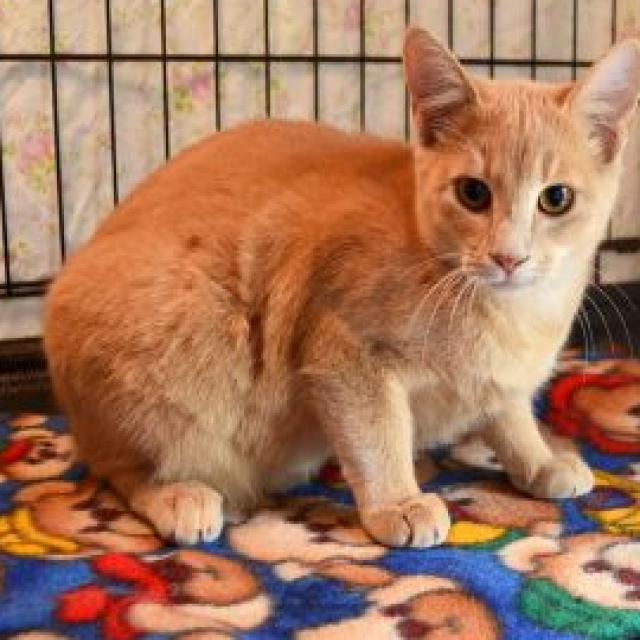Abyssinian: (35, 17, 640, 557)
